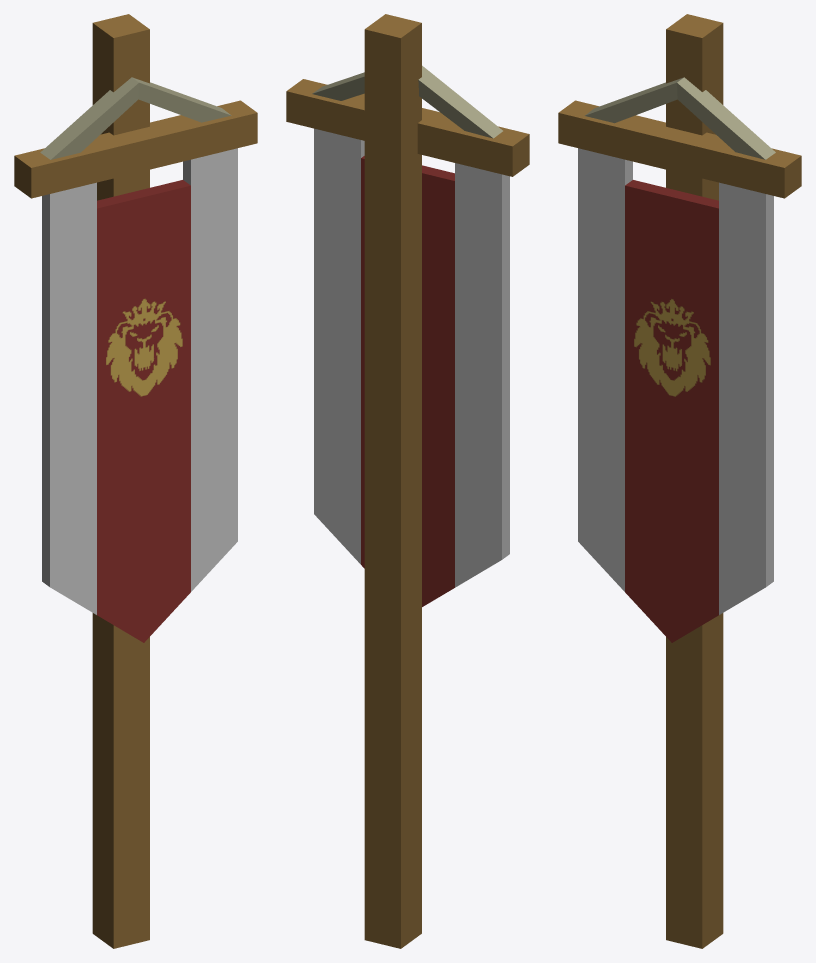
Rendered from Flag_03.gltf.
3 renders of one model, left to right at view 1: azimuth 30°, elevation 25°; view 2: azimuth 150°, elevation 25°; view 3: azimuth 330°, elevation 25°, orthographic.
Parts seen in each view (by area): view 1: SF_Prop_Flag_03; view 2: SF_Prop_Flag_03; view 3: SF_Prop_Flag_03.
Part boxes in pixels (x1,y1,x2,y2): SF_Prop_Flag_03: (14,14,257,948); SF_Prop_Flag_03: (286,14,529,948); SF_Prop_Flag_03: (558,14,801,948).
Size of the model in its own units: 0.0142 by 0.0548 by 0.00367.
1 material, 1 textured.
